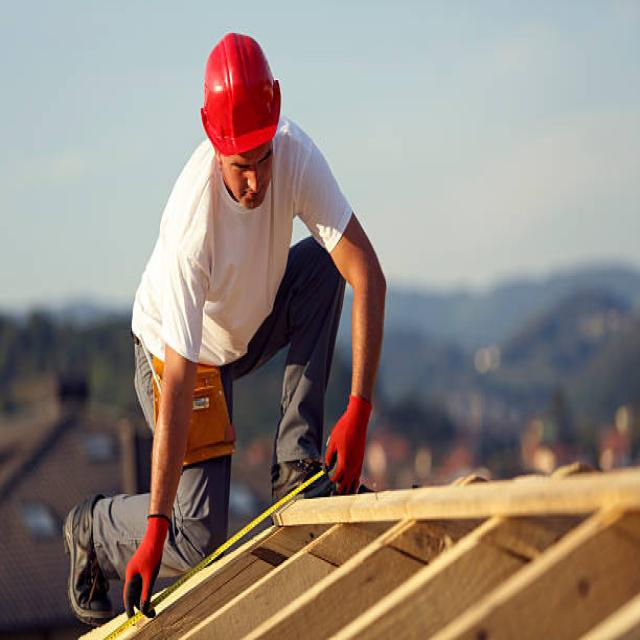gloves: (122, 516, 176, 621), (326, 394, 374, 496)
